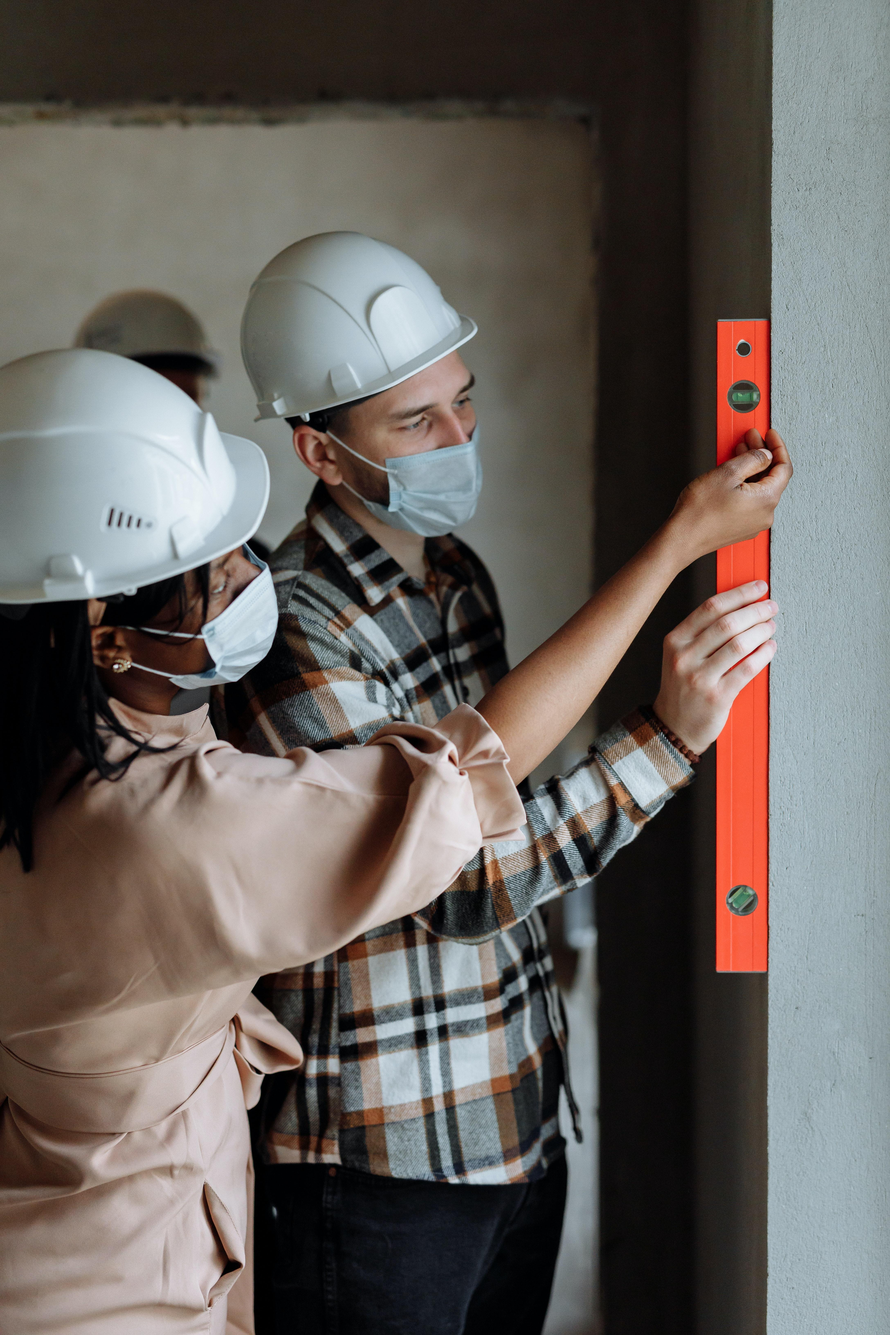Helmet: (218, 228, 510, 422)
